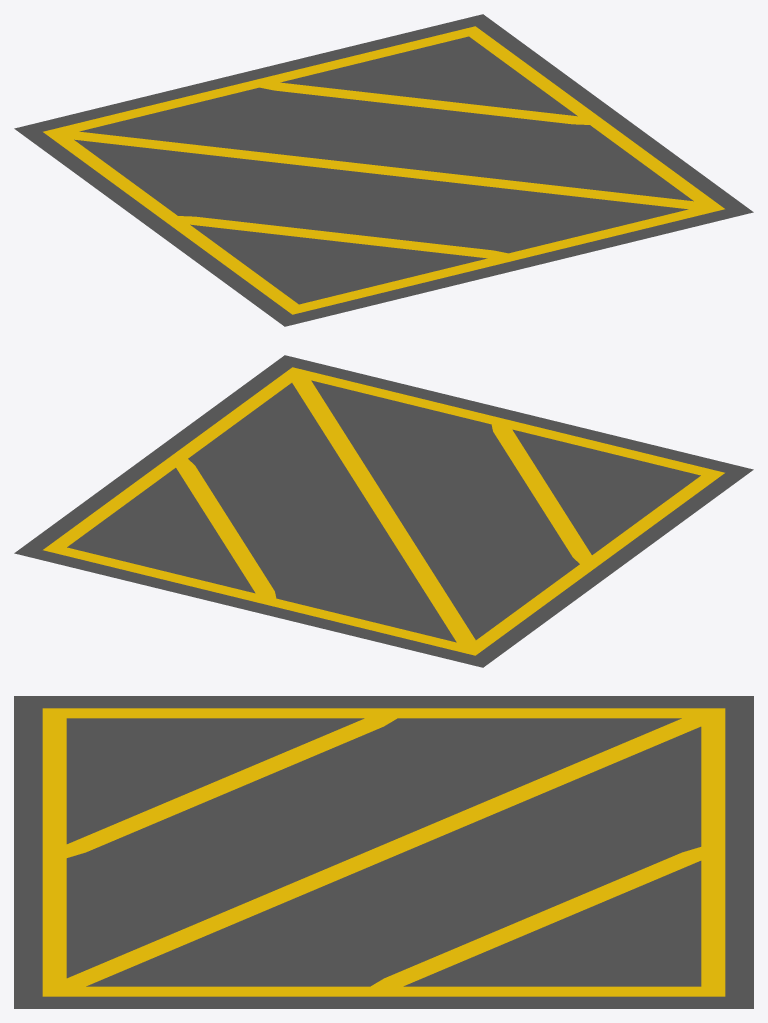
Rendered from Road_5.fbx.
The picture shows the model from 3 angles, top to bottom: view 1: azimuth 30°, elevation 25°; view 2: azimuth 150°, elevation 25°; view 3: azimuth 270°, elevation 25°; orthographic projection. The views are drawn at different scales.
Visible parts, largest first — view 1: Road_5; view 2: Road_5; view 3: Road_5.
Boxes of the visible parts, x1,y1,x2,y2 form: Road_5: (14,14,753,326); Road_5: (14,355,753,667); Road_5: (14,696,753,1008).
Size of the model in its own units: 1000 by 0 by 1000.
